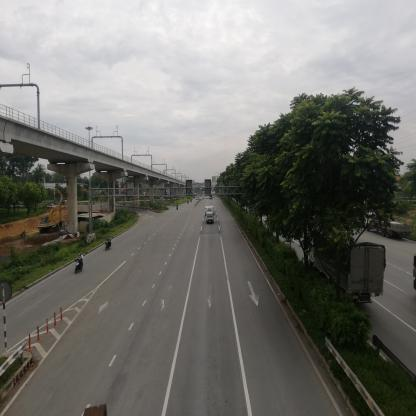motorbike: (73, 253, 85, 273), (106, 237, 112, 253)
truck: (309, 237, 392, 308), (205, 207, 216, 225)
